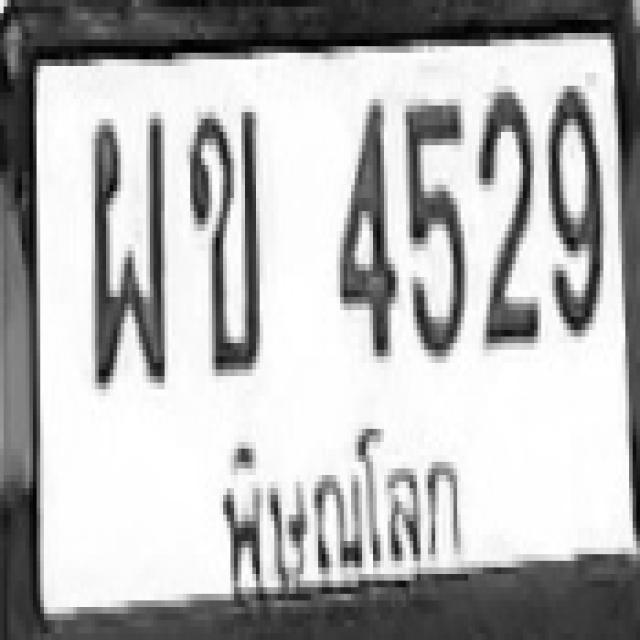11KhorKhai: (187, 106, 260, 370)
2: (476, 82, 538, 340)
37PhorPhueng: (88, 105, 164, 382)
4: (336, 92, 395, 350)
5: (402, 96, 464, 353)
9: (545, 76, 600, 326)
Phitsanulok: (208, 415, 472, 591)
